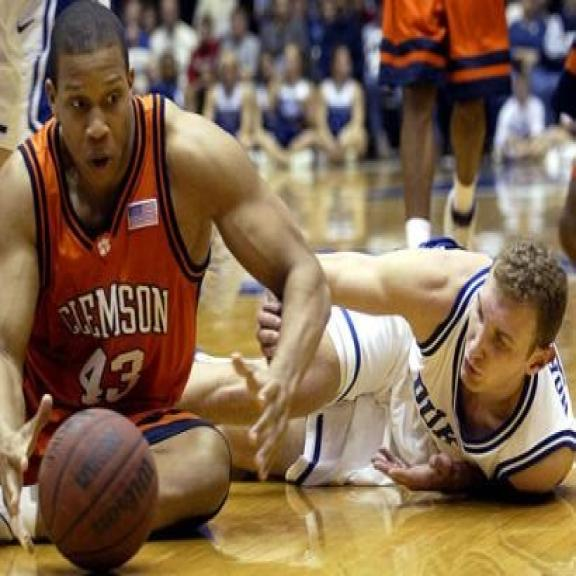face: (458, 245, 559, 405), (40, 49, 138, 191)
